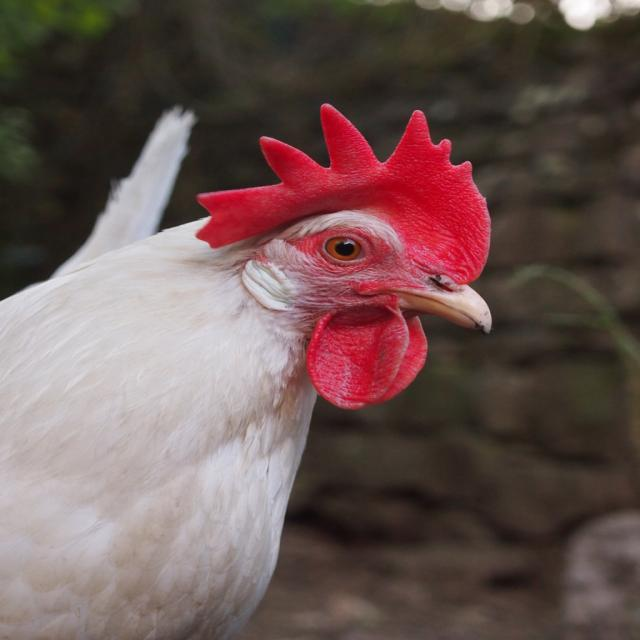Chicken: (0, 102, 518, 621)
